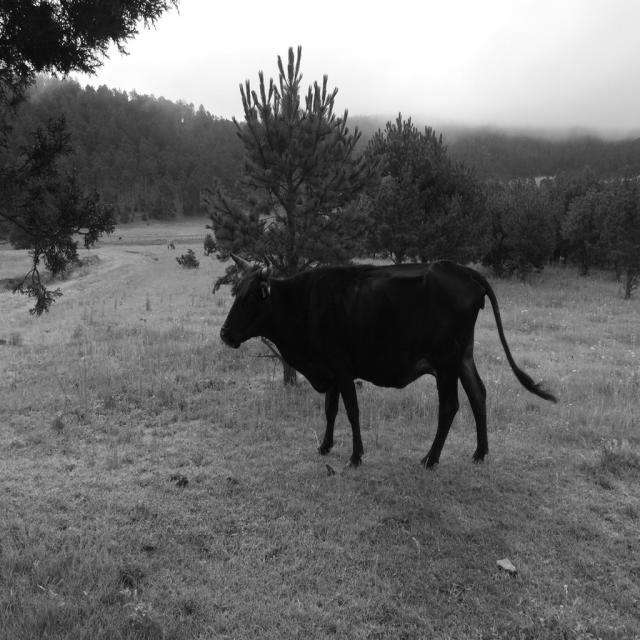cow: (221, 256, 556, 468)
